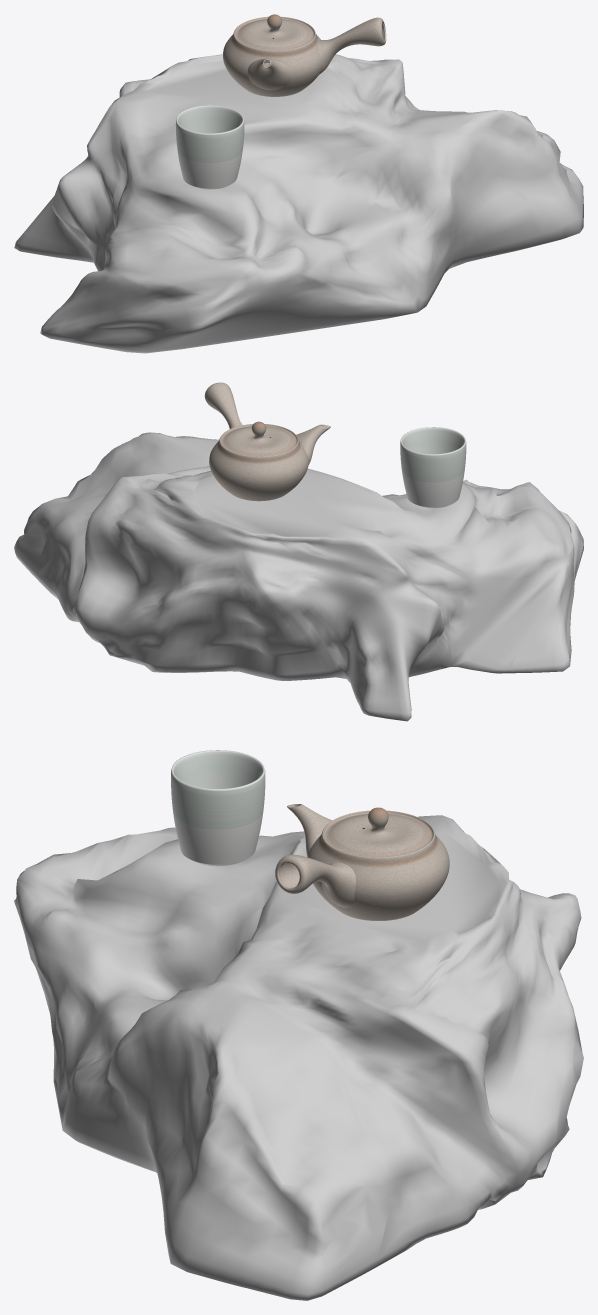
Rendered from Tea scene.gltf.
3 views of the same model, one above another, from view 1: azimuth 30°, elevation 25°; view 2: azimuth 150°, elevation 25°; view 3: azimuth 270°, elevation 25° (orthographic). The views are drawn at different scales.
Parts seen in each view (by area): view 1: Teapot; view 2: Teapot; view 3: Teapot.
Part boxes in pixels (left/top/right/bottom): Teapot: left=14, top=14, right=583, bottom=353; Teapot: left=14, top=382, right=583, bottom=721; Teapot: left=14, top=750, right=583, bottom=1300.
Bounding box in the file's own units: 66.64 × 25.59 × 42.88.
